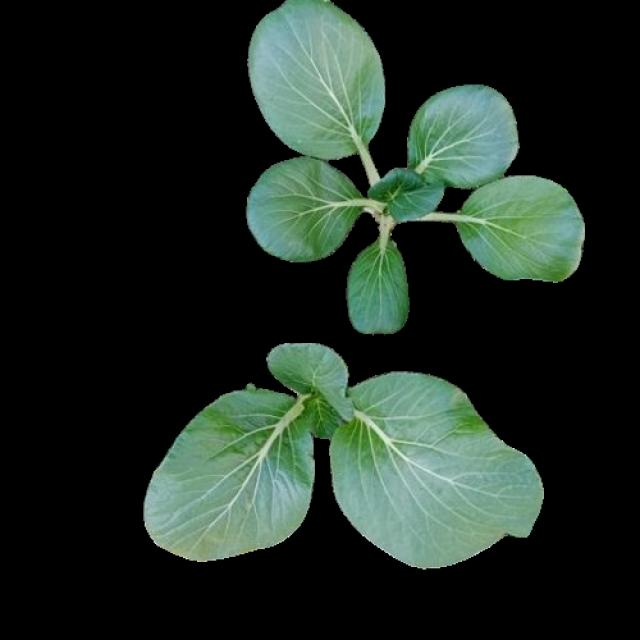healthy: (250, 2, 588, 336), (142, 342, 543, 566)
not-mature: (247, 1, 585, 334), (140, 339, 540, 563)
